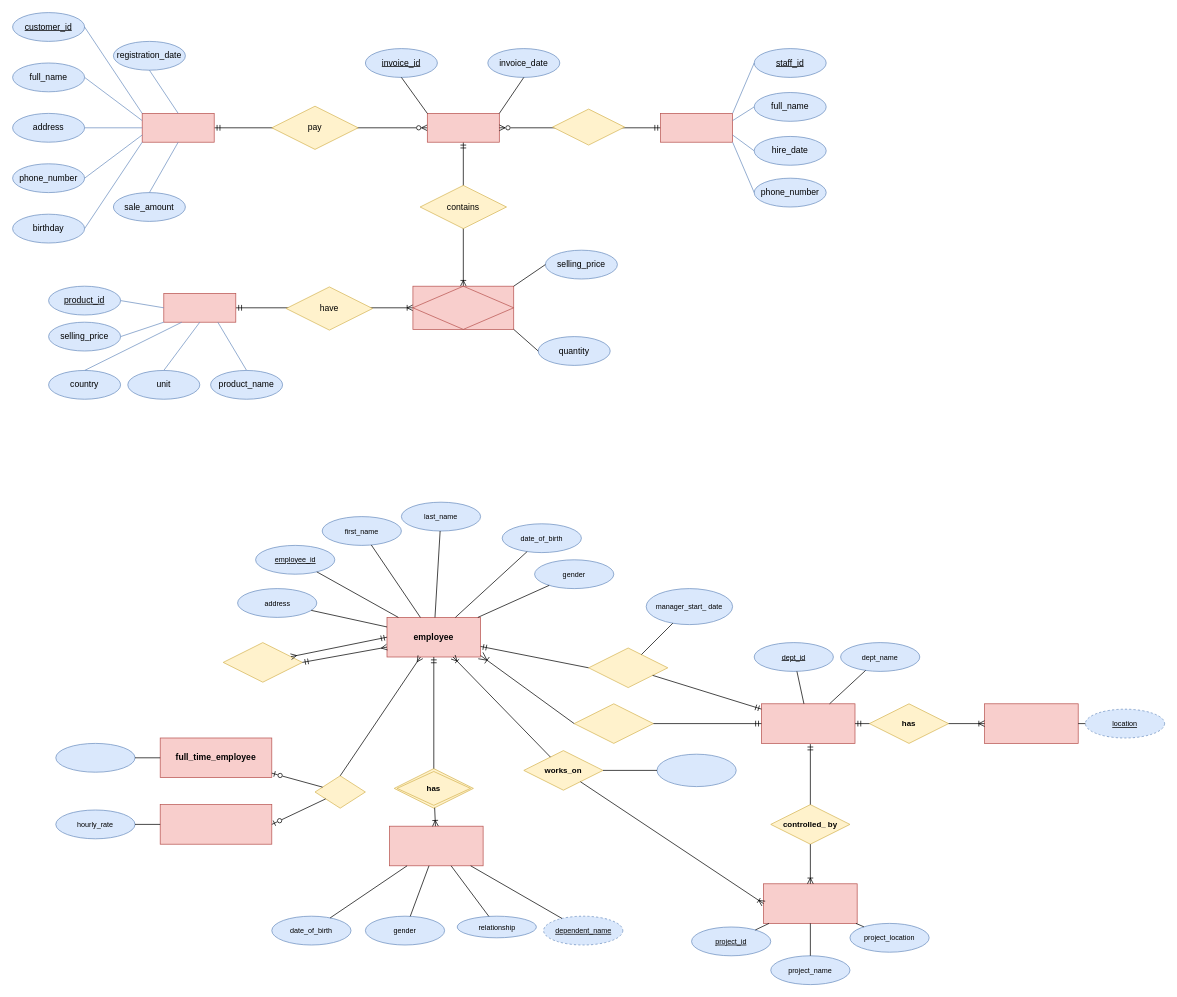
The diagram is 1177 pixels wide and 997 high, and some of its shapes have lost their labels. Each missing label, with the box of its shape:
create: (552, 108, 625, 145)
customer: (141, 113, 214, 142)
department: (761, 703, 855, 743)
dependent: (389, 825, 483, 866)
dept_location: (984, 703, 1078, 743)
hours_per_ week: (656, 753, 736, 787)
invoice: (427, 113, 499, 142)
invoice_detail: (412, 285, 514, 329)
IS_A: (314, 775, 365, 808)
manages: (588, 647, 668, 688)
monthly_salary: (55, 743, 135, 772)
part_time_employee: (159, 804, 272, 844)
product: (163, 293, 236, 322)
project: (763, 883, 857, 923)
staff: (660, 113, 733, 142)
supervises: (222, 642, 302, 682)
works_for: (573, 703, 653, 743)
